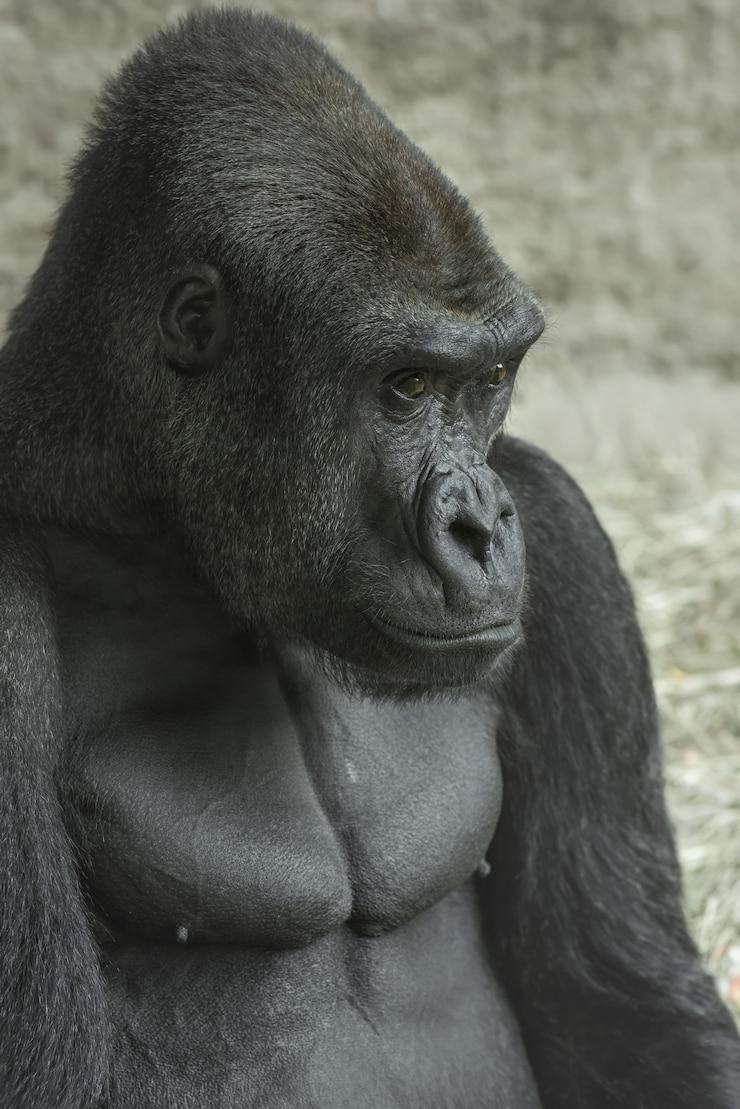gorille_Autres: (7, 10, 734, 1109)
